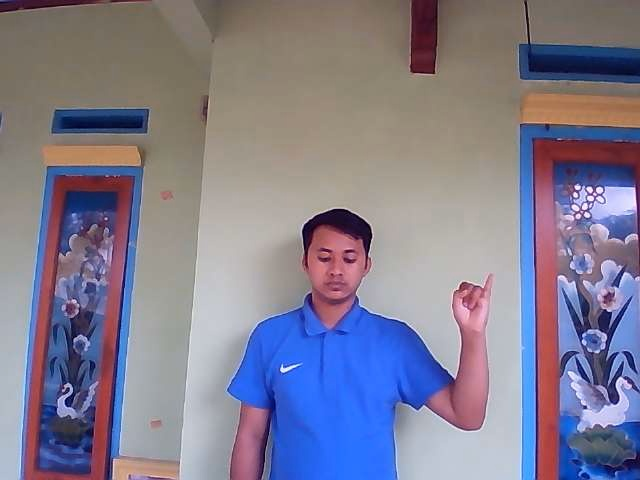I: (450, 273, 496, 335)
